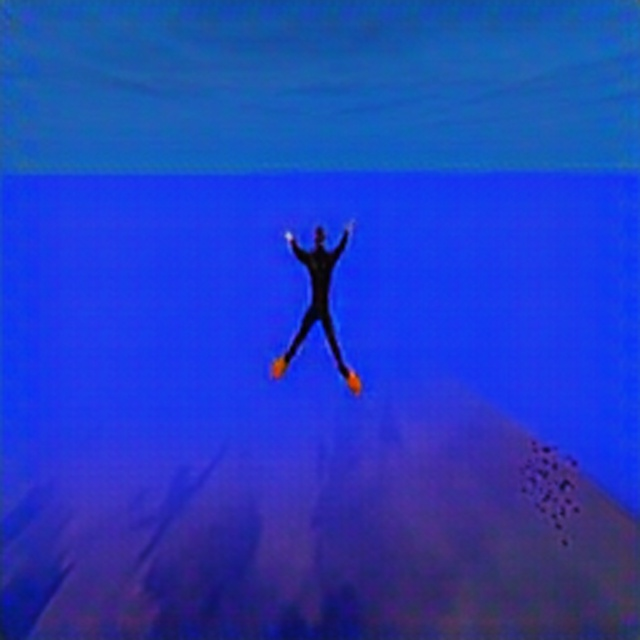diver: (269, 214, 364, 398)
